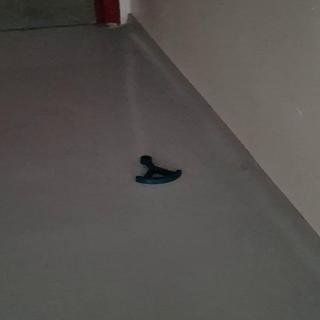haptic: (134, 155, 183, 185)
